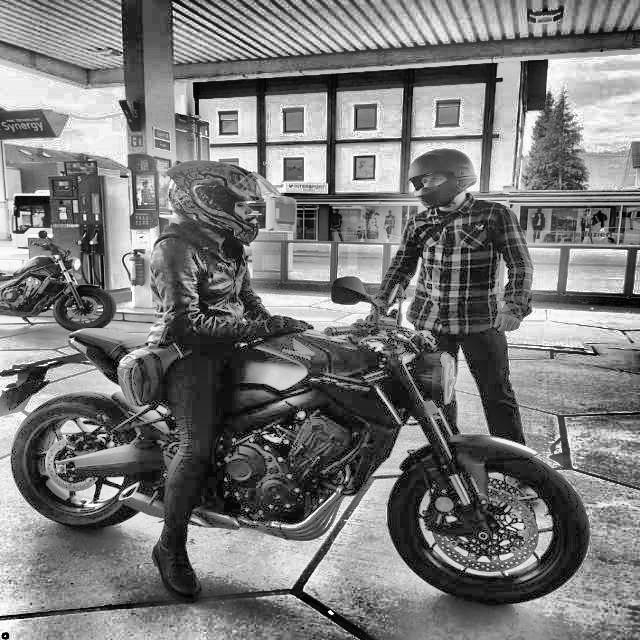Helmet: (160, 156, 284, 252), (405, 147, 480, 210)
